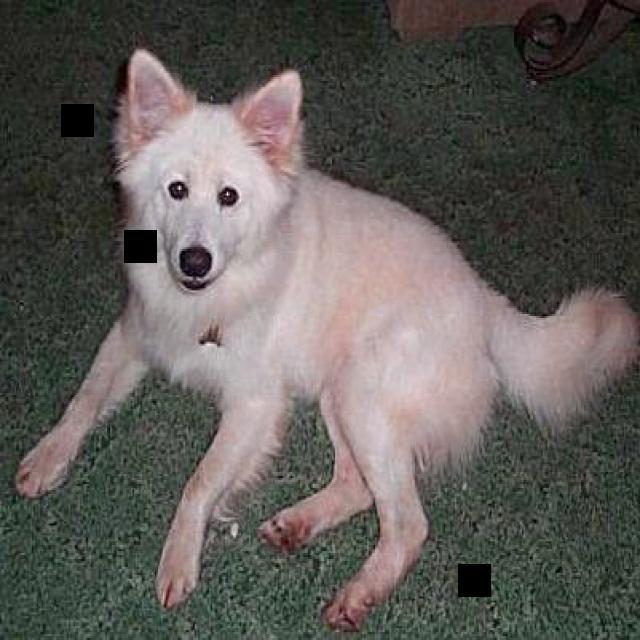adult_dog: (13, 45, 640, 632)
